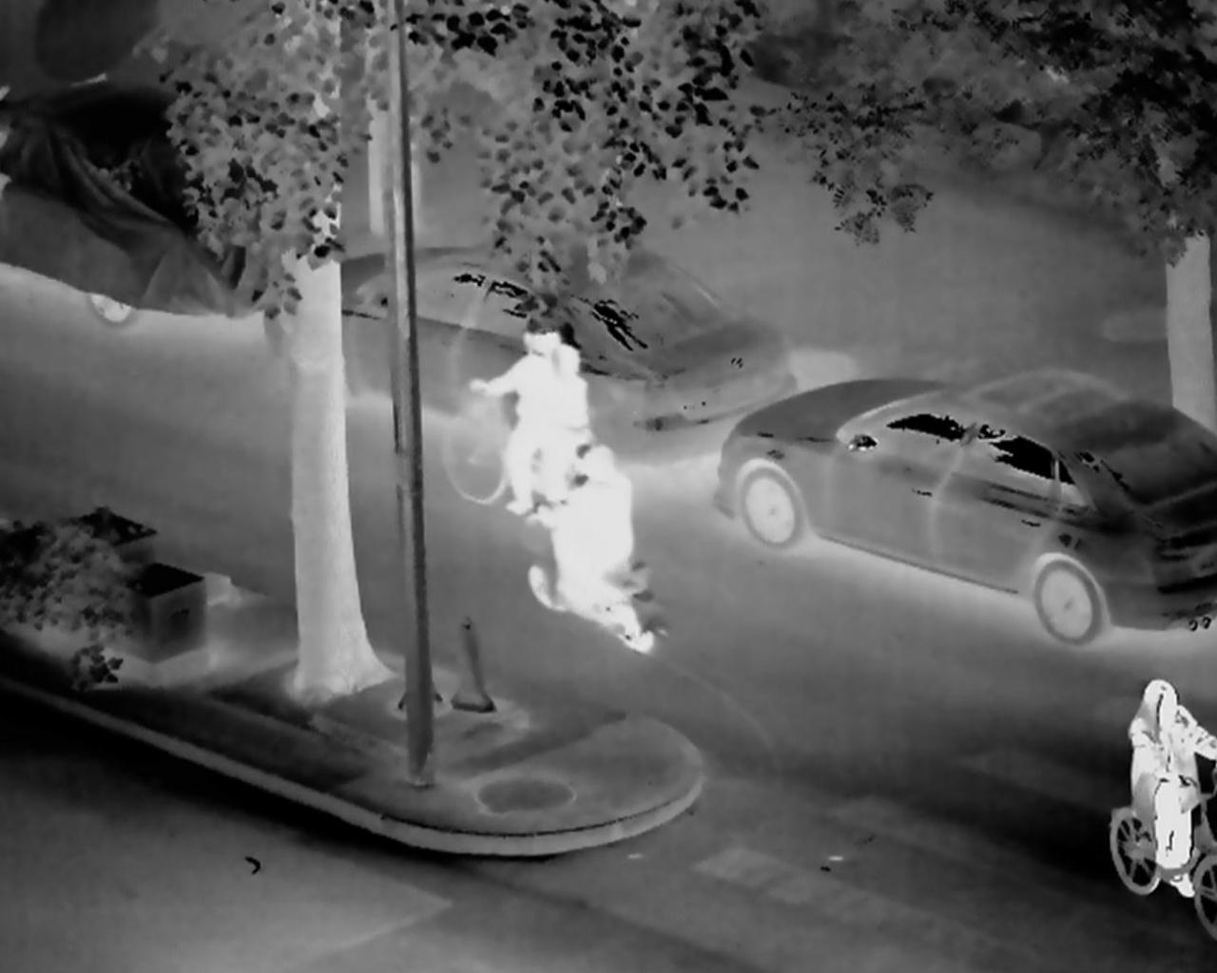person: (1097, 664, 1217, 915), (536, 444, 667, 646), (467, 314, 579, 522)
